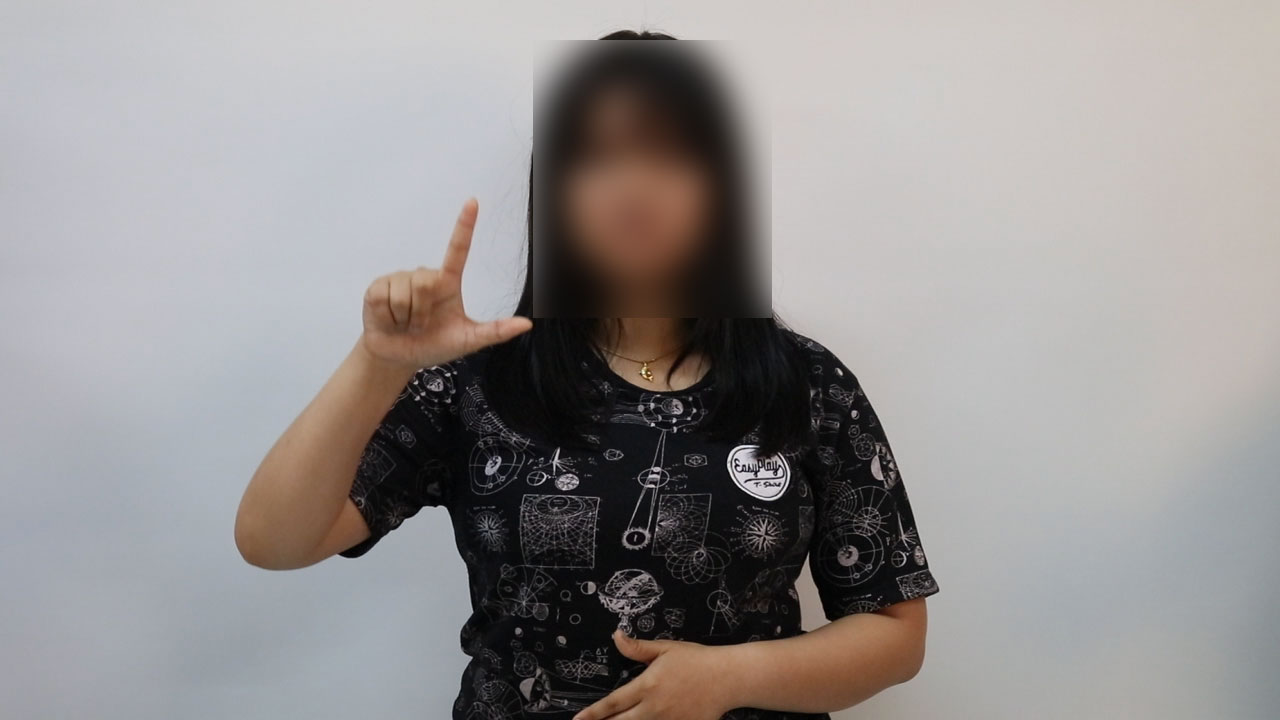lor: (347, 190, 542, 388)
